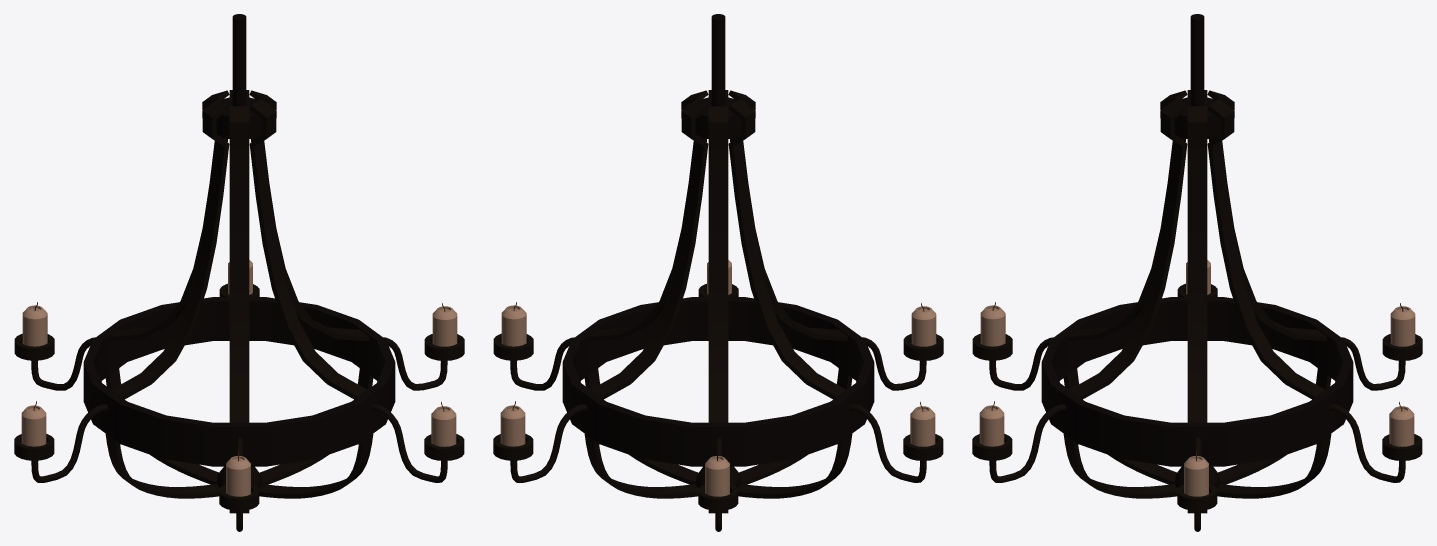
The model's file is chandelier.fbx.
3 renders of one model, left to right at view 1: azimuth 30°, elevation 25°; view 2: azimuth 150°, elevation 25°; view 3: azimuth 270°, elevation 25°, orthographic.
Parts seen in each view (by area): view 1: Tube001, Line008, Line007, Line009, Cylinder014, Line013, Line015, Line010, Line012, Cylinder013, Cylinder003, Cylinder007 (+13 smaller); view 2: Tube001, Line012, Line007, Line011, Cylinder014, Line013, Line017, Line008, Line010, Cylinder009, Cylinder011, Cylinder003 (+13 smaller); view 3: Tube001, Line010, Line009, Line011, Cylinder014, Line017, Line015, Line008, Line012, Cylinder005, Cylinder007, Cylinder011 (+13 smaller).
Part boxes in pixels (x1,y1,x2,y2): Tube001: (83, 297, 395, 466); Line008: (229, 106, 249, 422); Line007: (111, 99, 229, 399); Line009: (249, 99, 367, 399); Cylinder014: (216, 14, 262, 138); Line013: (105, 434, 219, 498); Line015: (259, 434, 373, 498); Line010: (249, 90, 368, 341); Line012: (110, 90, 229, 341); Cylinder013: (22, 305, 47, 346); Cylinder003: (21, 405, 46, 446); Cylinder007: (431, 406, 456, 446); Tube001: (562, 297, 874, 466); Line012: (708, 106, 728, 422); Line007: (728, 99, 846, 399); Line011: (590, 99, 708, 399); Cylinder014: (695, 14, 741, 138); Line013: (737, 434, 852, 498); Line017: (584, 434, 698, 498); Line008: (728, 90, 847, 341); Line010: (589, 90, 708, 341); Cylinder009: (501, 305, 526, 346); Cylinder011: (500, 405, 525, 446); Cylinder003: (910, 406, 935, 446); Tube001: (1041, 297, 1353, 466); Line010: (1187, 106, 1207, 422); Line009: (1069, 99, 1187, 399); Line011: (1207, 99, 1325, 399); Cylinder014: (1174, 14, 1220, 138); Line017: (1217, 434, 1331, 498); Line015: (1063, 434, 1177, 498); Line008: (1068, 90, 1187, 341); Line012: (1207, 90, 1326, 341); Cylinder005: (980, 305, 1005, 346); Cylinder007: (979, 405, 1004, 446); Cylinder011: (1389, 406, 1414, 446).
Size of the model in its own units: 106 by 110 by 92.45.
